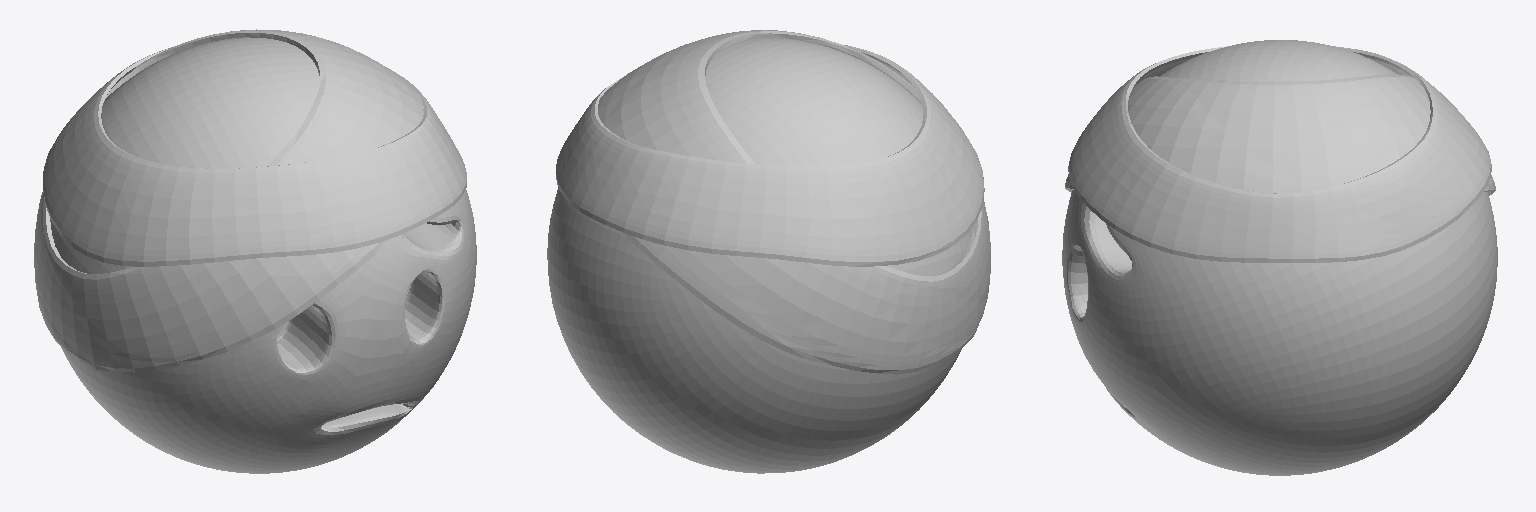
The model's file is bandage.obj.
3 renders of one model, left to right at view 1: azimuth 30°, elevation 25°; view 2: azimuth 150°, elevation 25°; view 3: azimuth 270°, elevation 25°, orthographic.
Visible parts, largest first — view 1: default, _2, _1; view 2: default, _2, _1; view 3: default, _2, _1.
Part boxes in pixels (bbox=[...]): default: bbox=[50, 38, 476, 473]; _2: bbox=[43, 47, 466, 266]; _1: bbox=[34, 29, 423, 372]; default: bbox=[547, 38, 973, 473]; _2: bbox=[556, 45, 984, 266]; _1: bbox=[598, 30, 990, 374]; default: bbox=[1062, 40, 1497, 475]; _2: bbox=[1068, 46, 1491, 262]; _1: bbox=[1065, 74, 1495, 195].
Size of the model in its own units: 22.55 by 22.29 by 22.22.